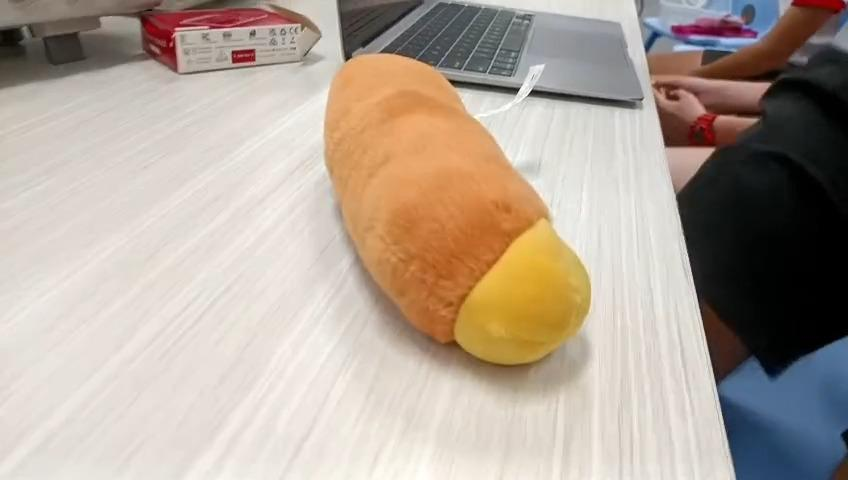hotdog: (324, 53, 593, 366)
